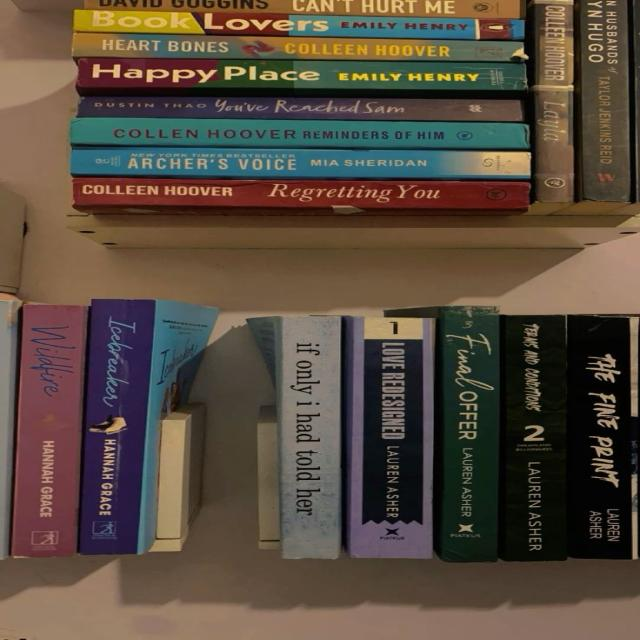book: (77, 298, 157, 554), (352, 316, 435, 558), (9, 306, 86, 556), (568, 316, 640, 560), (504, 314, 566, 562), (73, 178, 529, 211), (443, 304, 500, 562), (76, 58, 528, 90), (70, 149, 532, 180), (71, 117, 529, 148), (282, 316, 340, 559), (70, 33, 524, 62), (73, 10, 526, 39), (76, 96, 526, 121), (581, 0, 631, 204), (536, 0, 574, 203)
